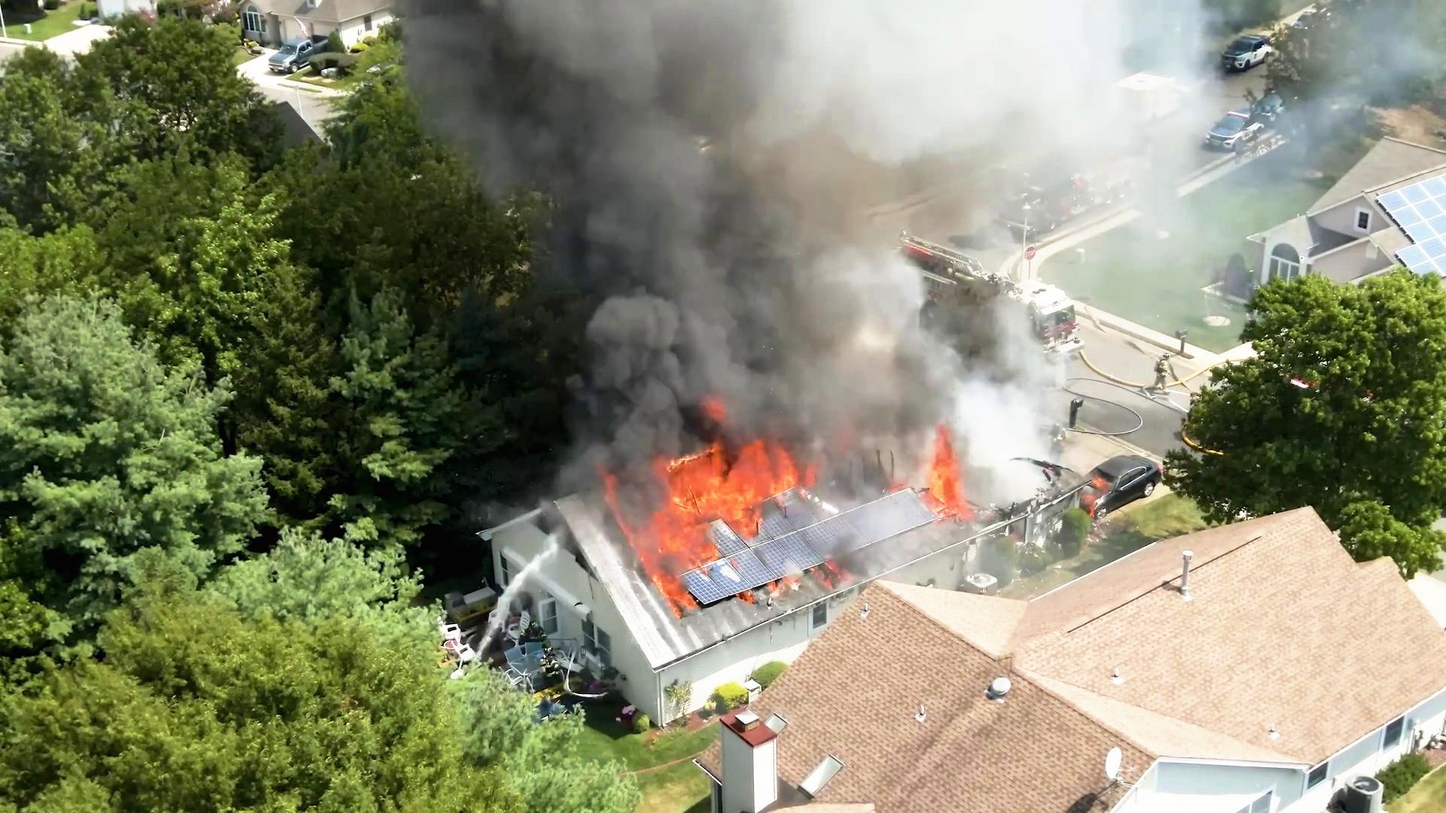fire: (597, 431, 810, 599), (912, 424, 966, 512)
smoke: (650, 185, 877, 402)
